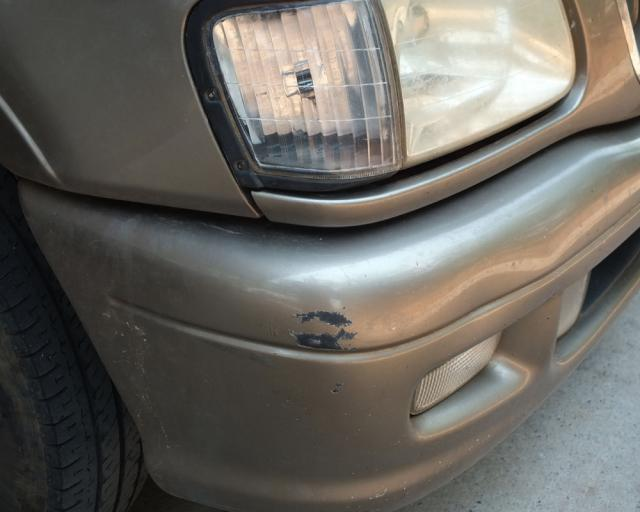scratch: (288, 304, 366, 353), (330, 378, 346, 396)
